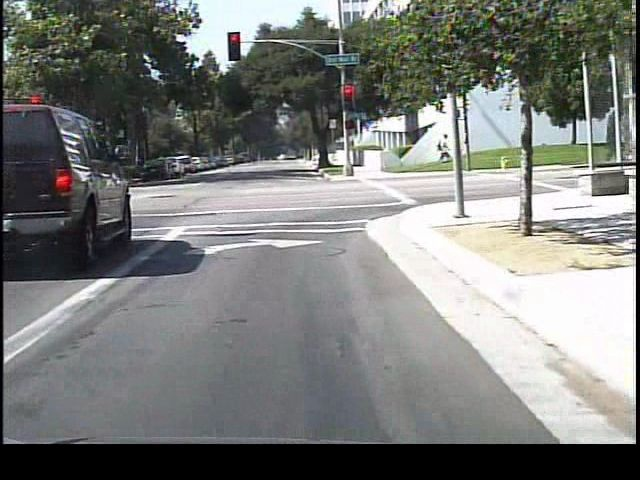person: (431, 127, 453, 160)
